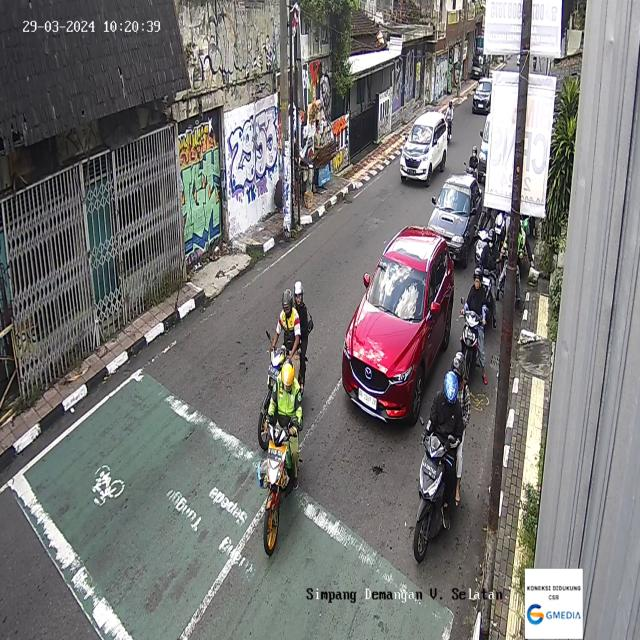car: (341, 224, 455, 426), (426, 167, 483, 268), (399, 111, 448, 186), (472, 78, 492, 114)
motorcycle: (412, 351, 472, 564), (257, 282, 313, 450), (256, 360, 303, 556), (457, 267, 489, 385), (479, 229, 499, 330), (474, 200, 495, 265), (464, 147, 480, 179)
